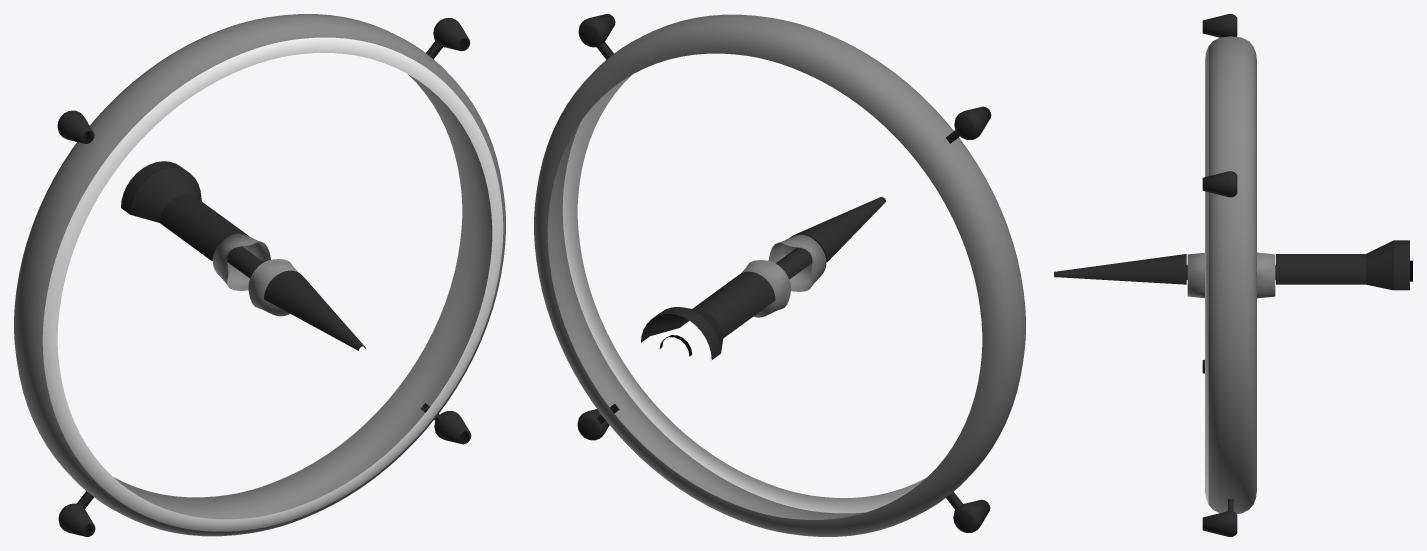
Rendered from OrbitShip.fbx.
3 views of the same model, side by side, from view 1: azimuth 30°, elevation 25°; view 2: azimuth 150°, elevation 25°; view 3: azimuth 270°, elevation 25° (orthographic). The views are drawn at different scales.
Parts seen in each view (by area): view 1: orbit, rocketBody, turret_1, turret_2, turret_4, turret_3; view 2: orbit, rocketBody, turret_1, turret_4, turret_2, turret_3; view 3: orbit, rocketBody, turret_3, turret_4, turret_1.
Part boxes in pixels (left/top/right/bottom): orbit: left=14, top=14, right=505, bottom=536; rocketBody: left=121, top=161, right=365, bottom=350; turret_1: left=57, top=110, right=94, bottom=143; turret_2: left=58, top=503, right=95, bottom=536; turret_4: left=433, top=18, right=470, bottom=51; turret_3: left=434, top=411, right=471, bottom=444; orbit: left=534, top=14, right=1025, bottom=536; rocketBody: left=641, top=197, right=885, bottom=359; turret_1: left=954, top=106, right=991, bottom=139; turret_4: left=578, top=14, right=615, bottom=47; turret_2: left=953, top=499, right=990, bottom=532; turret_3: left=577, top=409, right=609, bottom=440; orbit: left=1187, top=36, right=1275, bottom=513; rocketBody: left=1054, top=240, right=1409, bottom=290; turret_3: left=1202, top=511, right=1237, bottom=536; turret_4: left=1202, top=171, right=1237, bottom=197; turret_1: left=1202, top=14, right=1237, bottom=37.
Size of the model in its own units: 8832 by 6621 by 8832.
